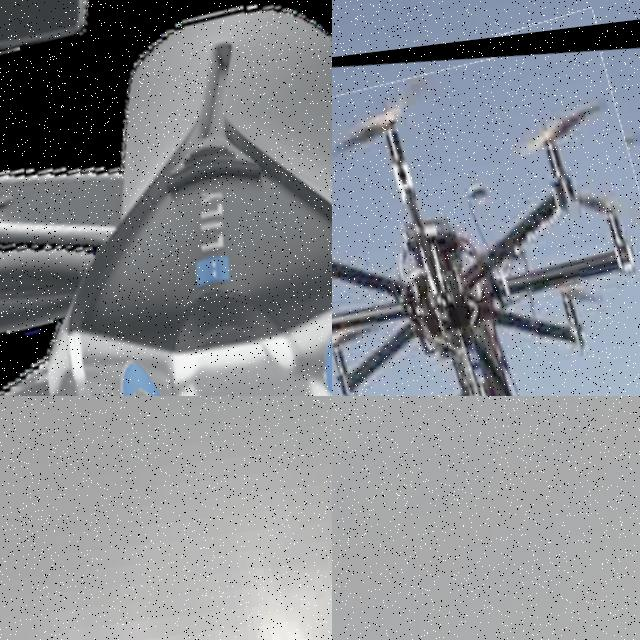drone: (0, 0, 332, 396), (332, 17, 640, 396)
